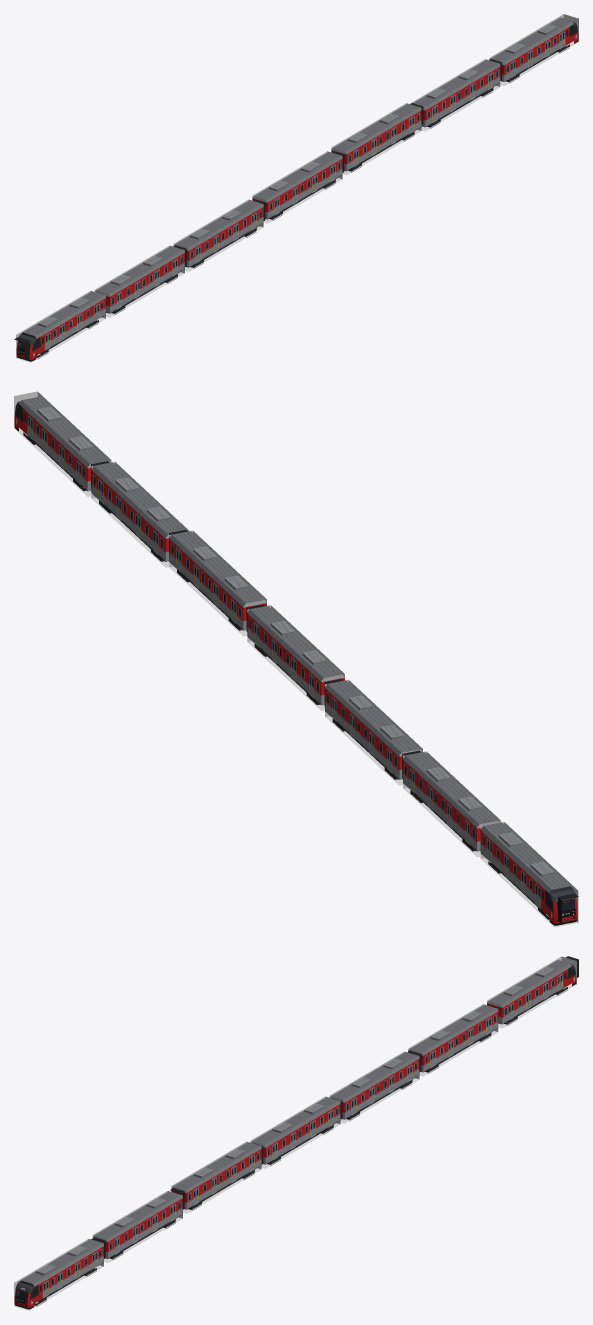
Rendered from source.glb.
3 renders of one model, top to bottom at view 1: azimuth 90°, elevation 25°; view 2: azimuth 150°, elevation 25°; view 3: azimuth 270°, elevation 25°, orthographic. The views are drawn at different scales.
Parts seen in each view (by area): view 1: coll_trem, car0, car1, car4, car3, car2, car5, car6; view 2: coll_trem, car0, car3, car4, car1, car2, car5, car6; view 3: coll_trem, car6, car4, car1, car2, car5, car3, car0.
Part boxes in pixels (box(x1,y1,x2,y2)): coll_trem: box(16, 14, 578, 362); car0: box(16, 291, 105, 361); car1: box(95, 246, 184, 315); car4: box(331, 103, 421, 172); car3: box(252, 152, 342, 220); car2: box(173, 200, 263, 269); car5: box(413, 59, 500, 128); car6: box(489, 17, 578, 83); coll_trem: box(14, 391, 578, 927); car0: box(480, 822, 577, 925); car3: box(247, 605, 344, 705); car4: box(169, 531, 266, 630); car1: box(403, 752, 499, 851); car2: box(325, 680, 422, 779); car5: box(91, 462, 184, 561); car6: box(14, 396, 110, 491); coll_trem: box(14, 956, 576, 1310); car6: box(14, 1239, 103, 1309); car4: box(171, 1142, 261, 1211); car1: box(408, 1005, 498, 1073); car2: box(330, 1052, 419, 1121); car5: box(92, 1191, 182, 1260); car3: box(250, 1097, 340, 1166); car0: box(487, 960, 576, 1025).
Size of the model in its own units: 121 by 5.21 by 87.49.
Materials: 1 (1 with a texture image).
